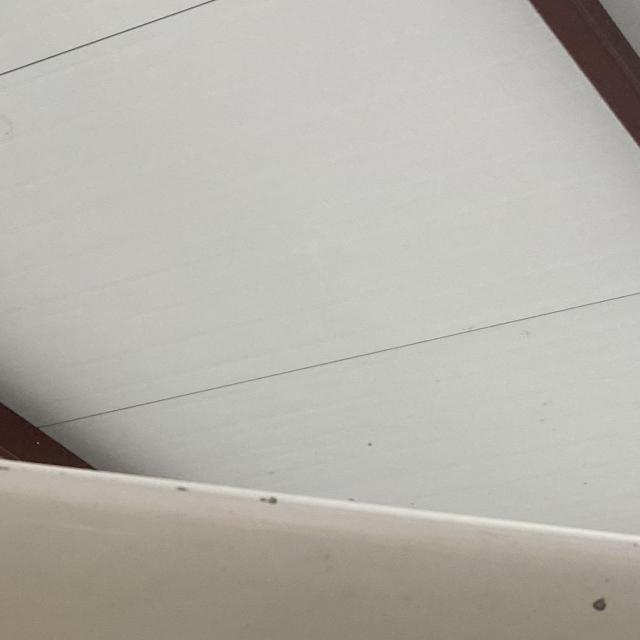Paint-off: (159, 480, 202, 494), (255, 491, 282, 504), (590, 596, 610, 611)
